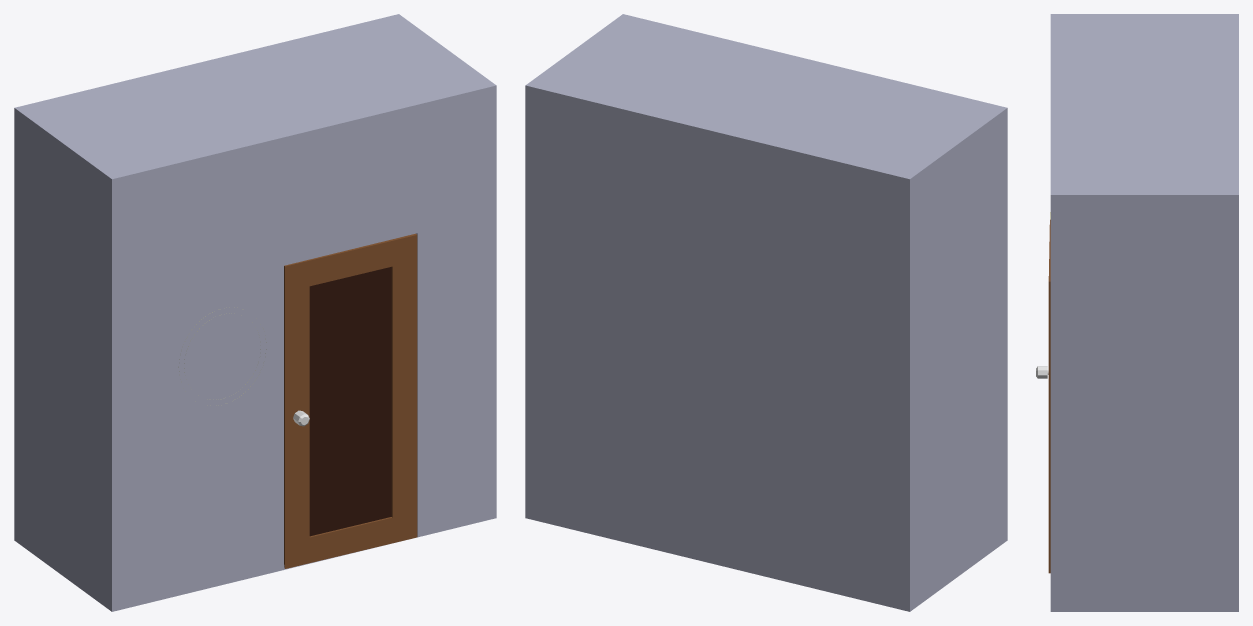
The model's file is bathroom.fbx.
The picture shows the model from 3 angles, left to right: view 1: azimuth 30°, elevation 25°; view 2: azimuth 150°, elevation 25°; view 3: azimuth 270°, elevation 25°; orthographic projection. The views are drawn at different scales.
Parts seen in each view (by area): view 1: Cube.042, Plane.001; view 2: Cube.042; view 3: Cube.042, Plane.001.
Part boxes in pixels (<box>): Cube.042: <box>14,14,496,611</box>; Plane.001: <box>284,233,417,568</box>; Cube.042: <box>525,14,1007,611</box>; Cube.042: <box>1050,14,1238,611</box>; Plane.001: <box>1048,219,1050,573</box>.
Bounding box in the file's own units: 266 × 286 × 126.
